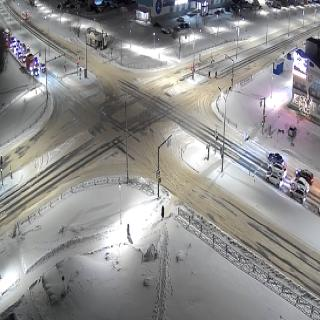large-vehicle: (26, 56, 34, 72)
small-vehicle: (296, 165, 314, 188), (290, 175, 310, 193), (267, 161, 286, 179), (263, 170, 281, 188), (288, 186, 305, 203), (267, 150, 283, 166), (40, 64, 46, 74), (33, 67, 39, 76), (33, 57, 39, 66), (17, 52, 23, 58), (23, 51, 28, 56), (22, 57, 26, 62)
